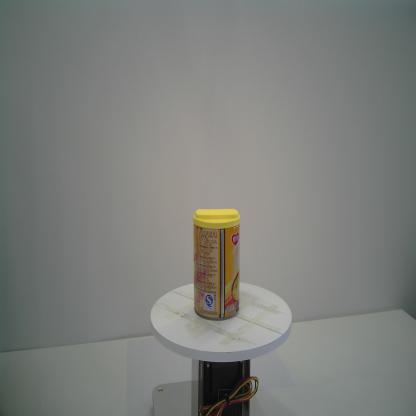Canned Food: (192, 206, 241, 322)
